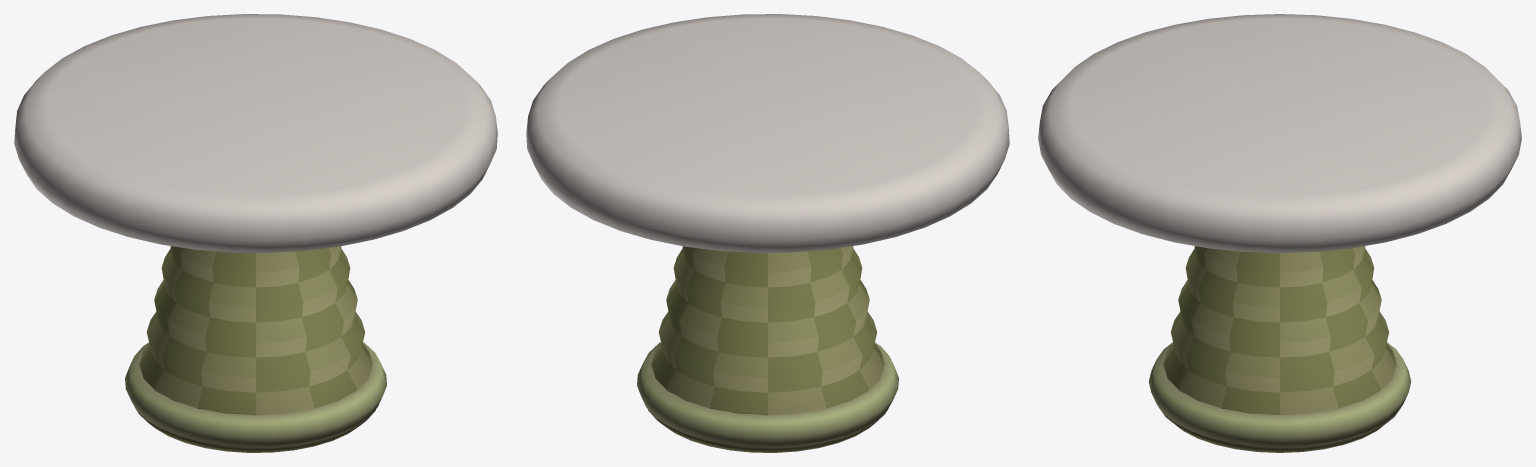
File: table_garden.glb
3 renders of one model, left to right at view 1: azimuth 30°, elevation 25°; view 2: azimuth 150°, elevation 25°; view 3: azimuth 270°, elevation 25°, orthographic.
Visible parts, largest first — view 1: table_garden; view 2: table_garden; view 3: table_garden.
Part boxes in pixels (x1,y1,x2,y2): table_garden: (14, 14, 497, 452); table_garden: (526, 14, 1009, 452); table_garden: (1038, 14, 1521, 452).
Size of the model in its own units: 1.29 by 0.872 by 1.29.
